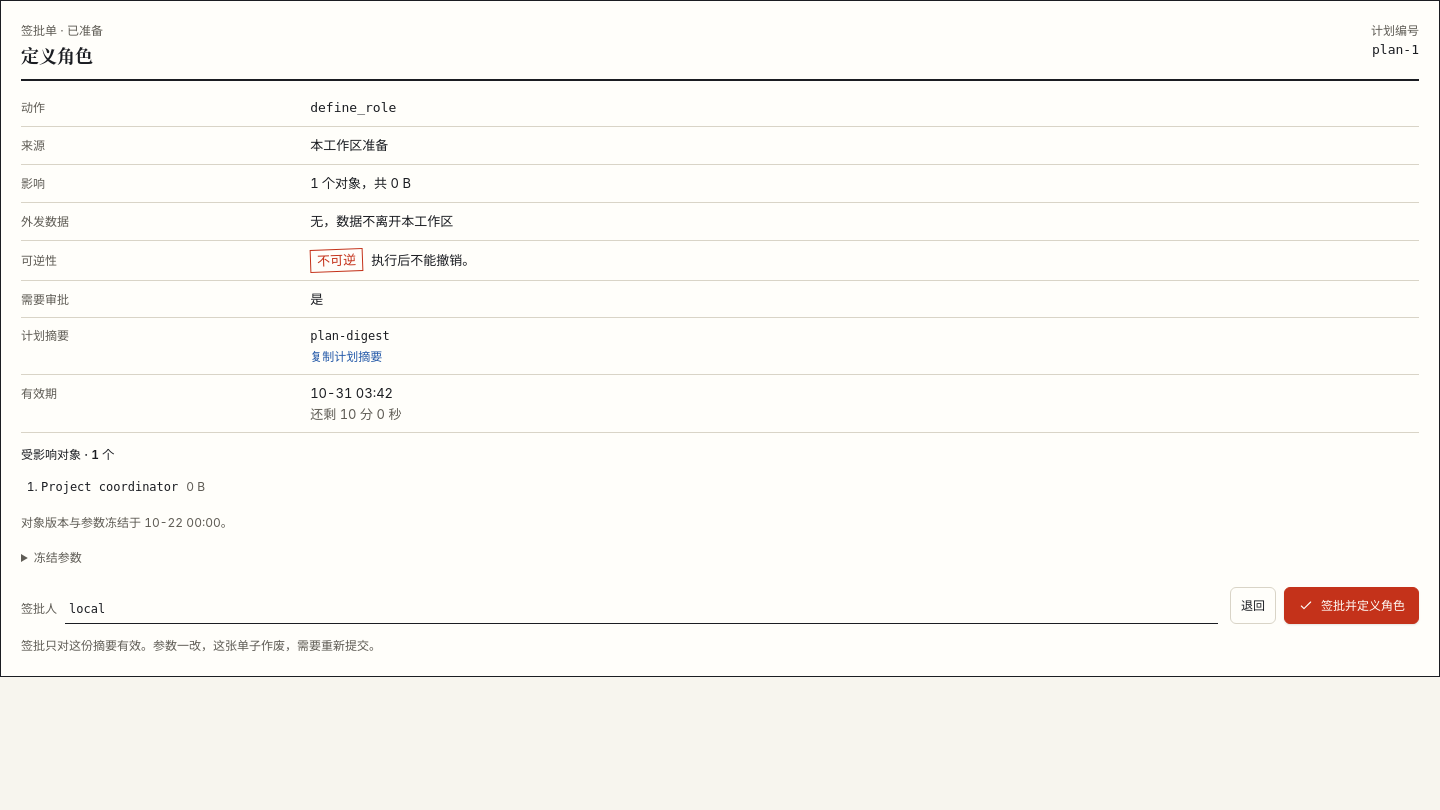
shows frozen role grants, denied actions, impact and required approval in zh
Expected: the text "Project coordinator" is shown, 41,480 -> 178,494
Click the heading "冻结参数" at (58, 558), box 34,550 -> 82,565
(page scrolled)
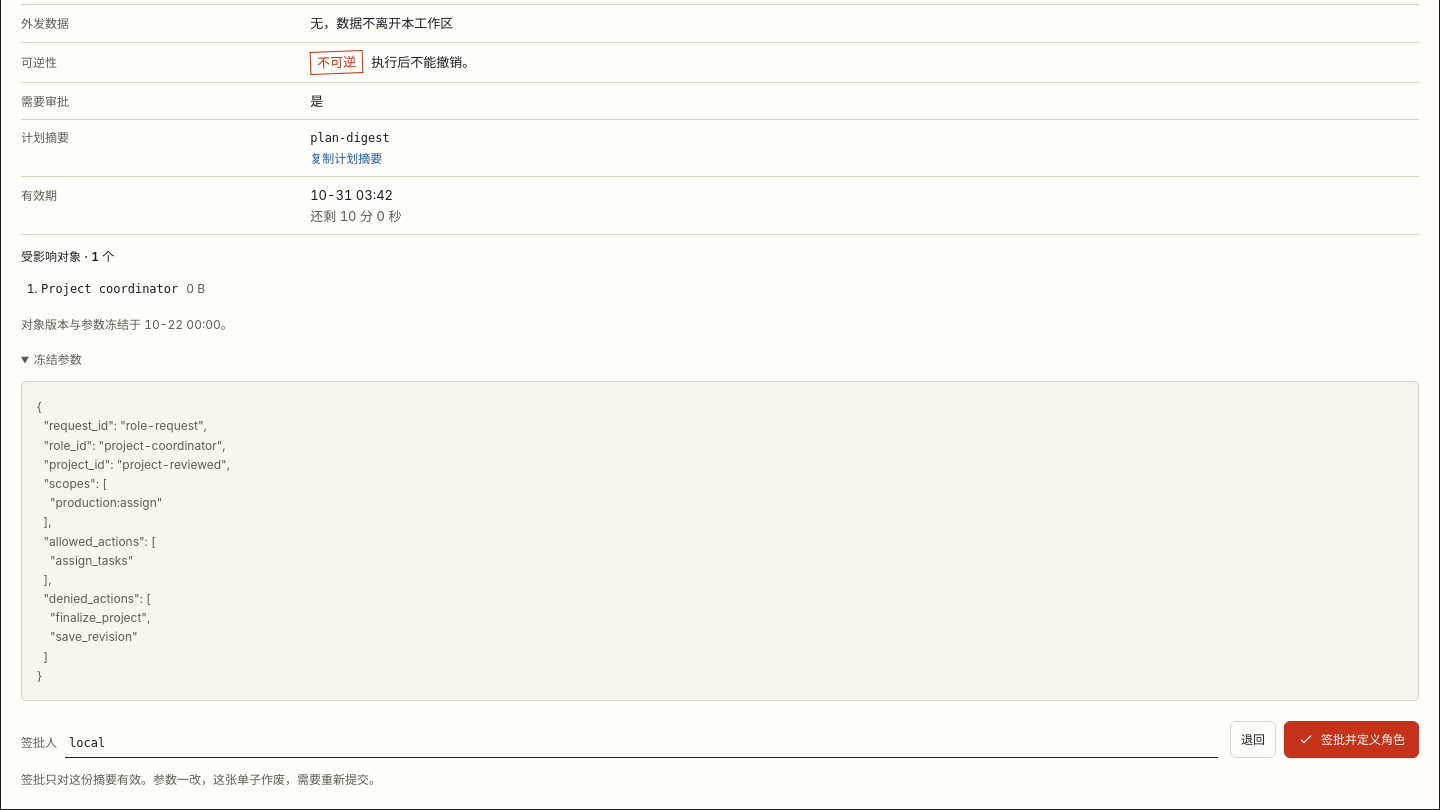
Now the text "\"allowed_actions\"" shows "\"assign_tasks\"", box 37,399 -> 230,683
Now the text "\"allowed_actions\"" shows "\"denied_actions\"", box 37,399 -> 230,683
Now the text "\"allowed_actions\"" shows "\"finalize_project\"", box 37,399 -> 230,683
